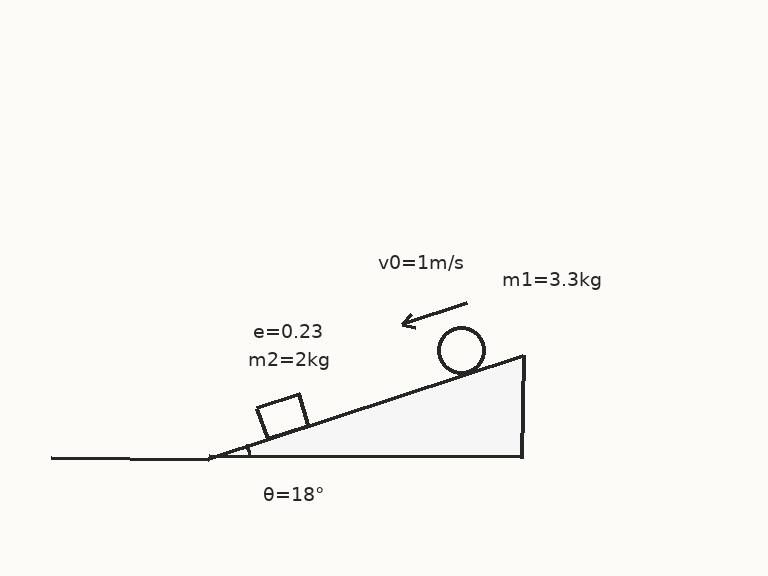ball: (435, 324, 487, 376)
block: (255, 392, 311, 440)
ramp: (207, 353, 525, 459)
